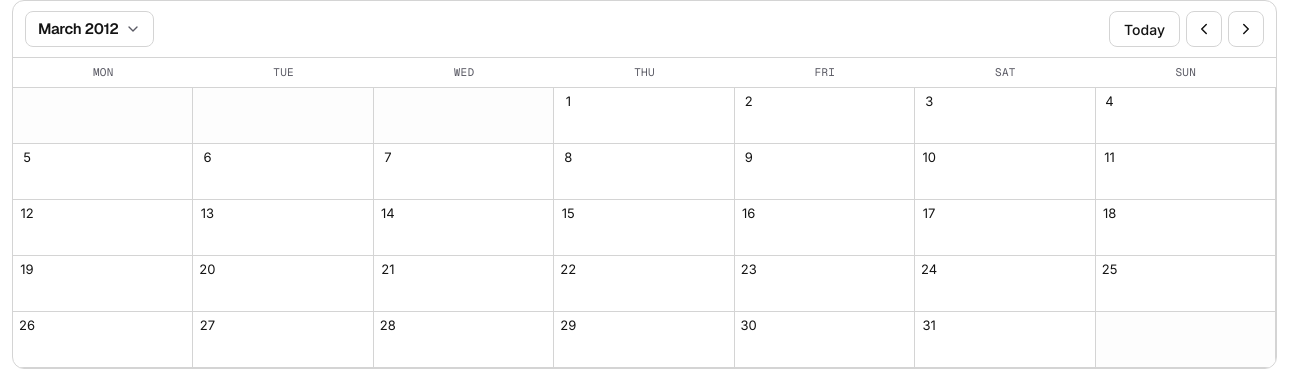
Scenario: MonthGrid header navigation (item 8) › Today closes an open picker and asks for today, so it never seems to do nothing under the year grid
Click the button "March 2012": (89, 29) [25,11,154,47]
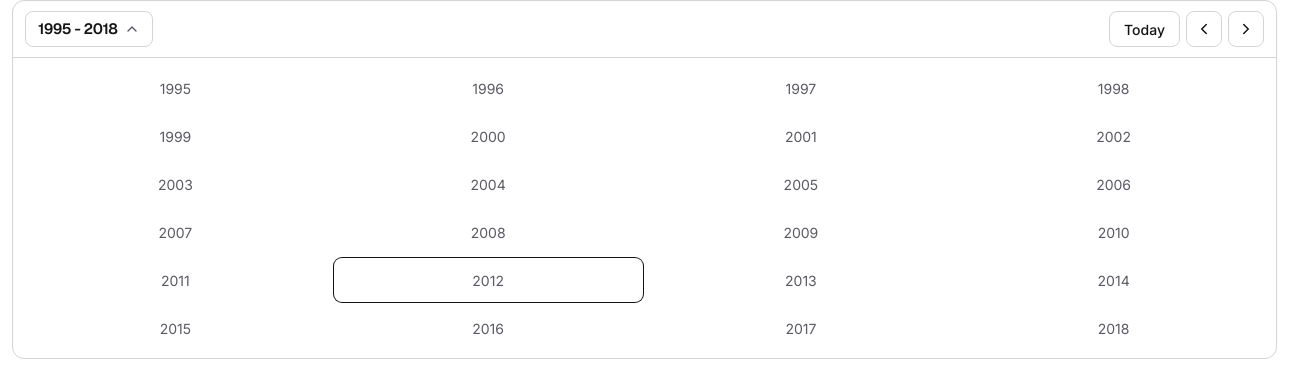
Expected: the element with test id "year-grid" is shown
Click the button "Today": (1144, 29) [1109,11,1180,47]
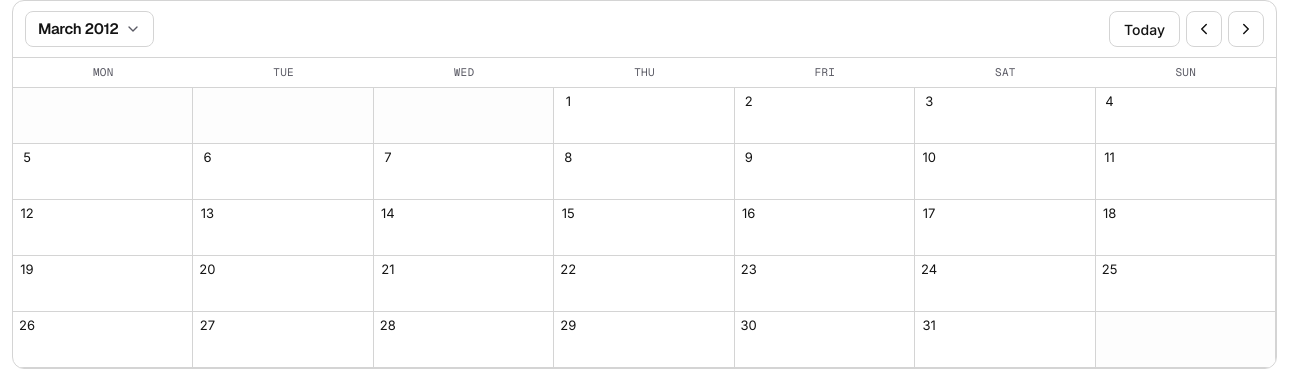
Expected: the element with test id "year-grid" is gone
